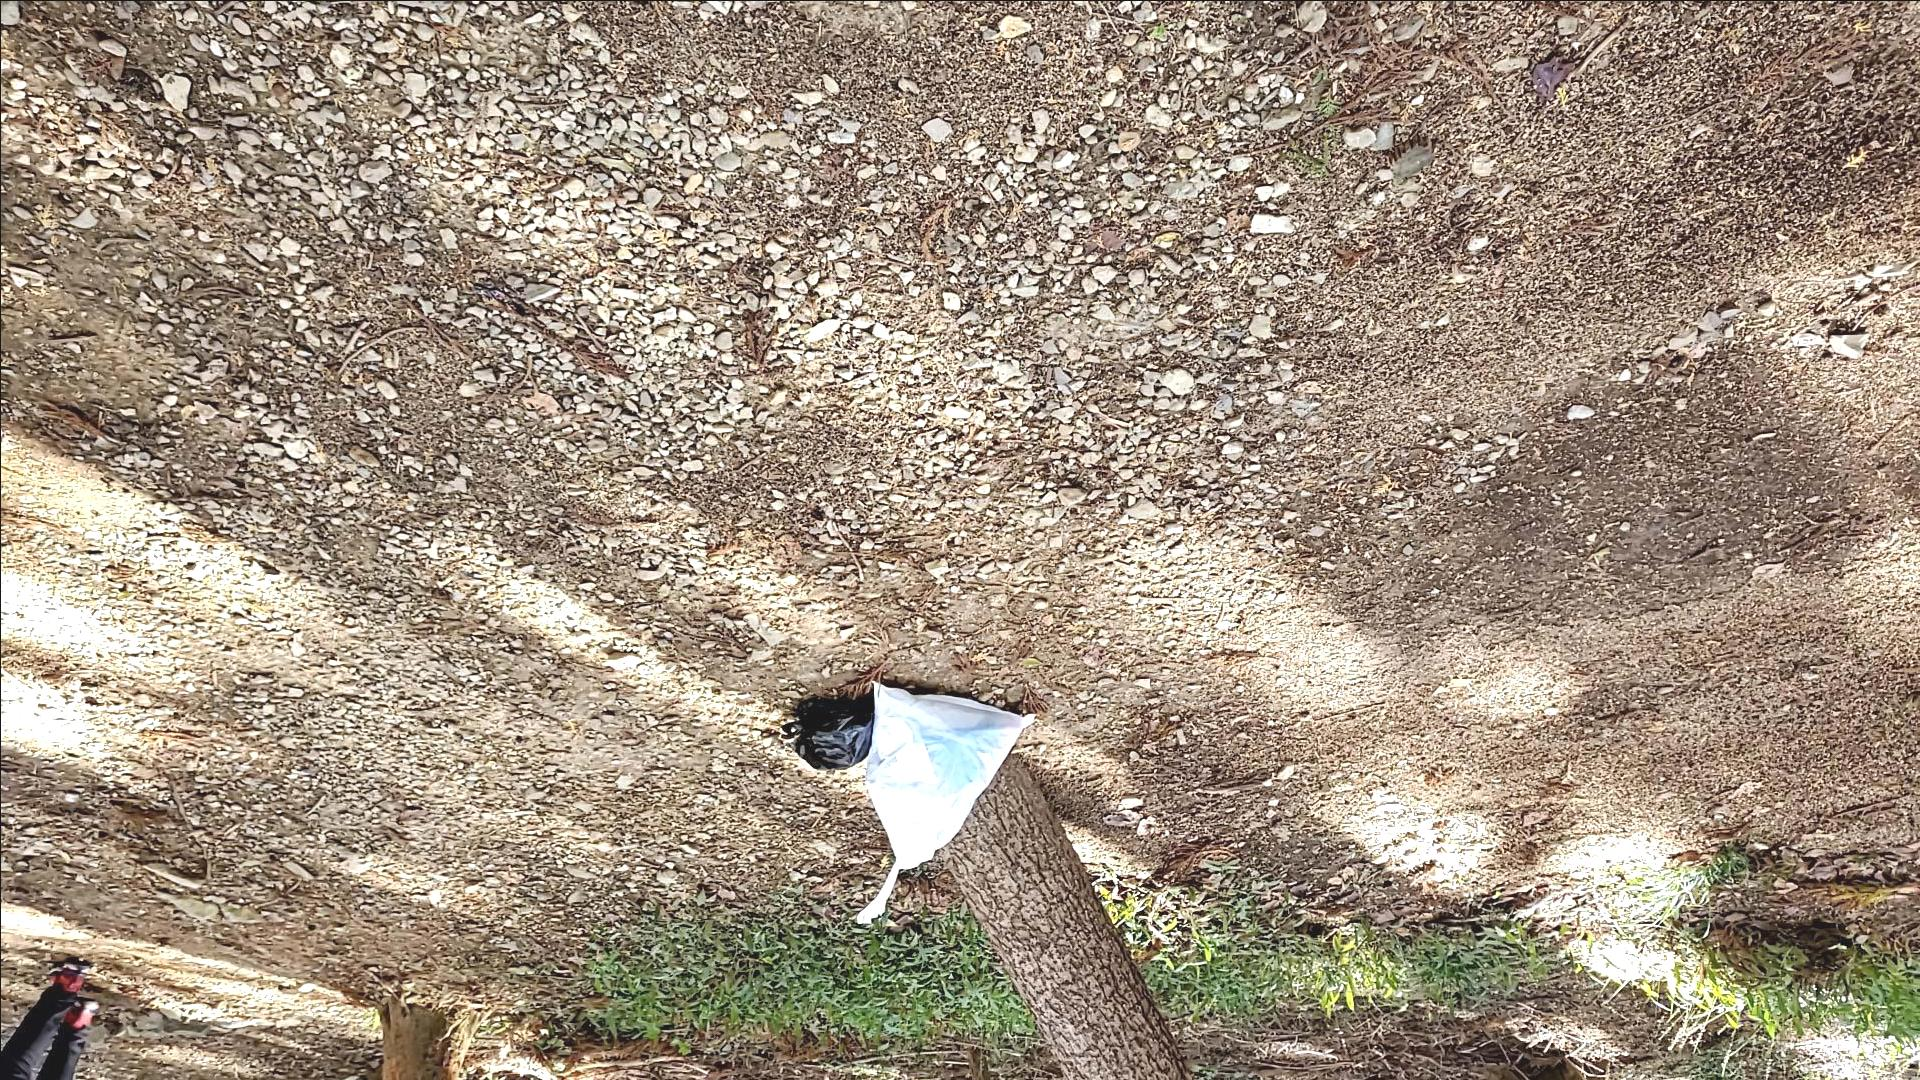black_bag: (771, 684, 878, 775)
white_bag: (845, 662, 1051, 949)
